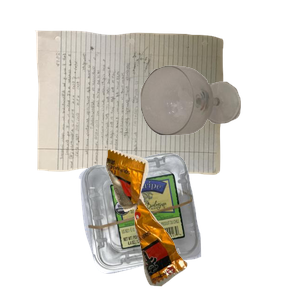glass: (138, 63, 300, 191)
paper: (32, 28, 249, 196)
plastic: (76, 151, 270, 300)
trash: (103, 147, 300, 300)
